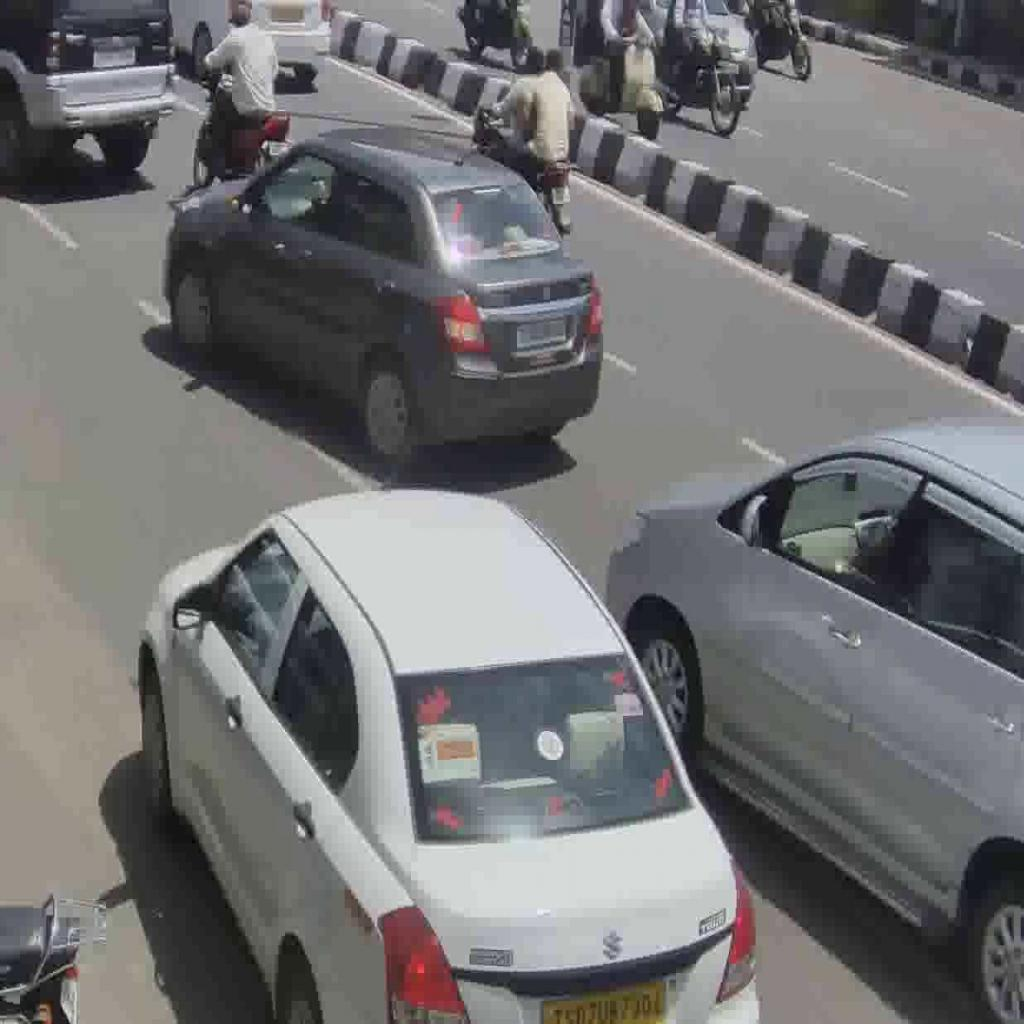helmet: (470, 104, 575, 253), (190, 68, 291, 189), (576, 34, 663, 139), (658, 24, 740, 134)
